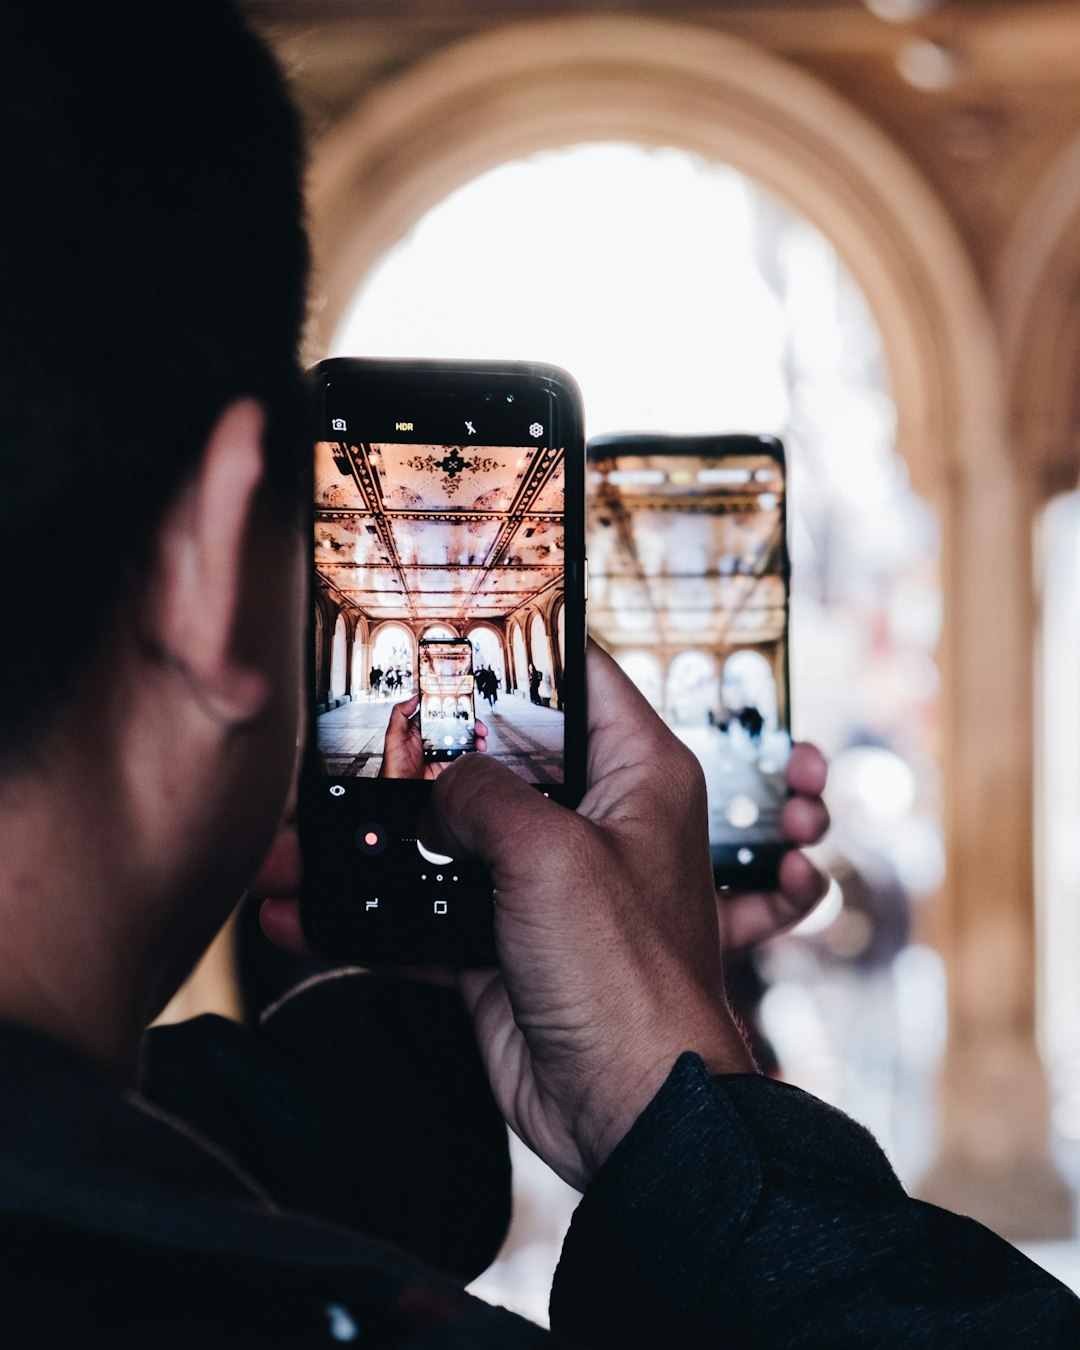phone: (296, 353, 586, 965)
